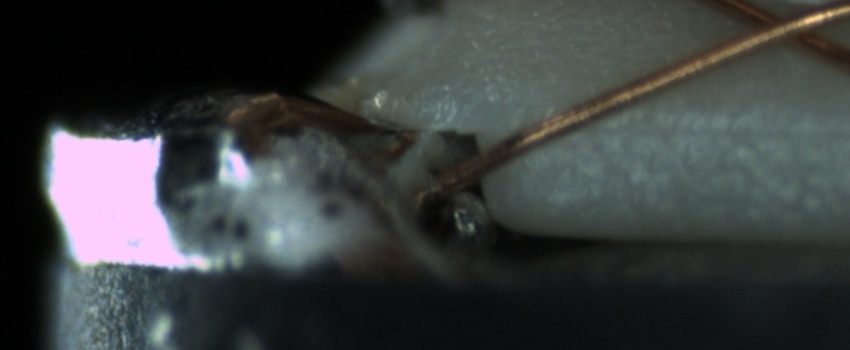CL: (718, 2, 839, 56)
DL: (572, 96, 843, 162)
